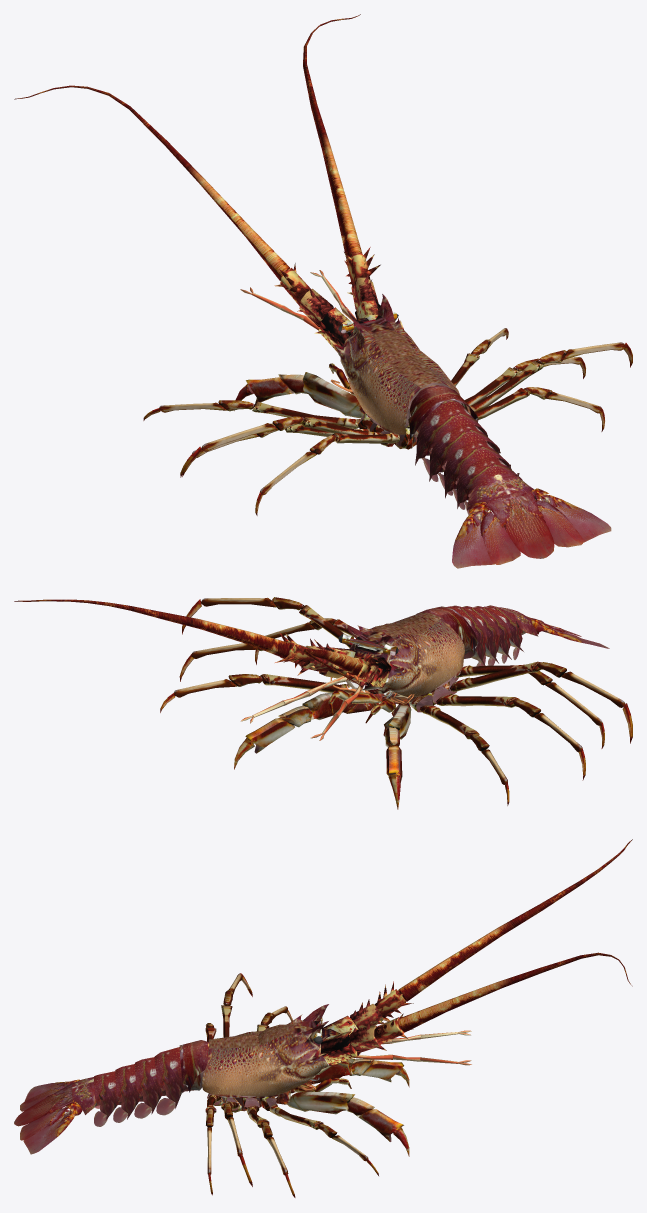
The model's file is lobster.glb.
The picture shows the model from 3 angles, top to bottom: view 1: azimuth 30°, elevation 25°; view 2: azimuth 150°, elevation 25°; view 3: azimuth 270°, elevation 25°; orthographic projection. The views are drawn at different scales.
Visible parts, largest first — view 1: 3DSMeshMatrix (×21); view 2: 3DSMeshMatrix (×33); view 3: 3DSMeshMatrix (×21).
Boxes of the visible parts, left/top/right/bottom form: 3DSMeshMatrix (×21): left=14, top=14, right=611, bottom=568; 3DSMeshMatrix (×33): left=14, top=597, right=625, bottom=782; 3DSMeshMatrix (×21): left=14, top=839, right=632, bottom=1154.
Size of the model in its own units: 411 by 217 by 563.
Materials: 63 (61 with a texture image).
